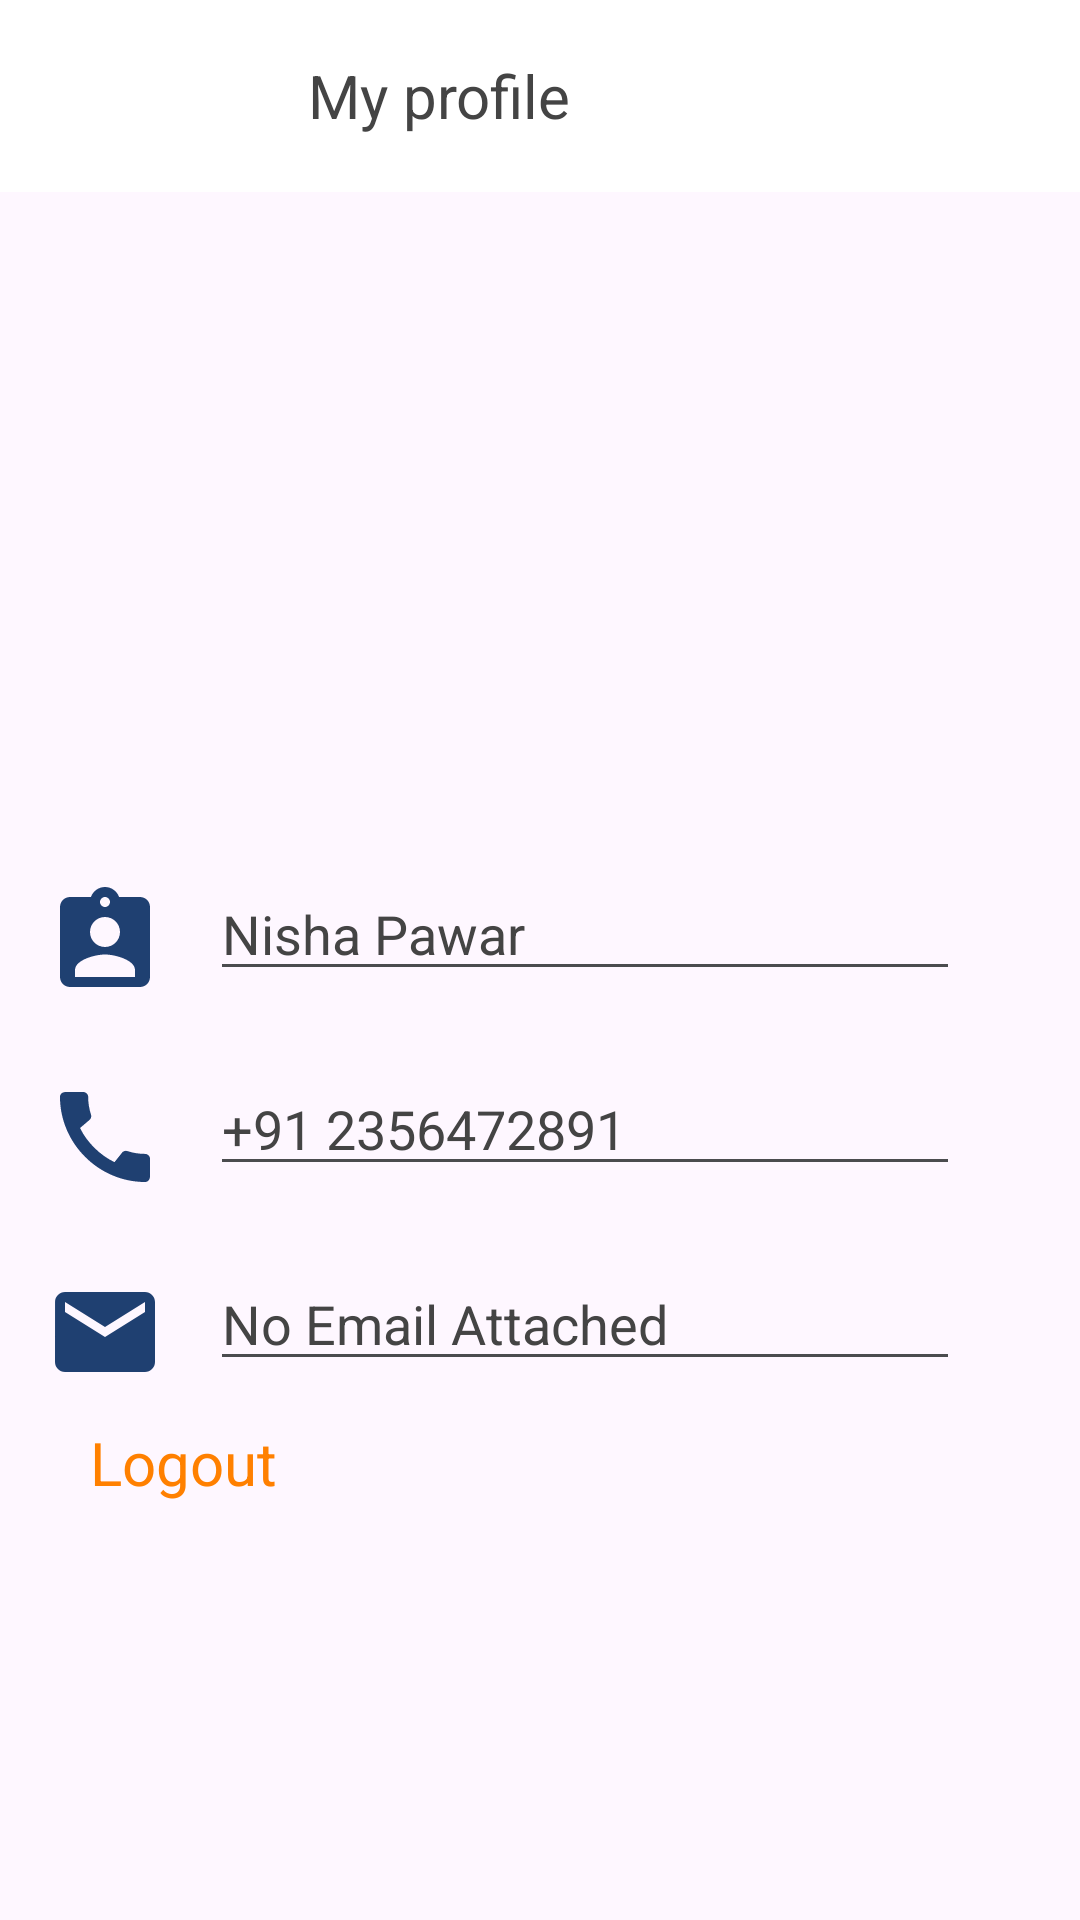

Where icons sit on this 1080 × 1920 app screen, as [left=x1, top=y1, right=x2, bottom=y2]:
accid: [left=60, top=887, right=150, bottom=987]
call: [left=60, top=1092, right=150, bottom=1182]
